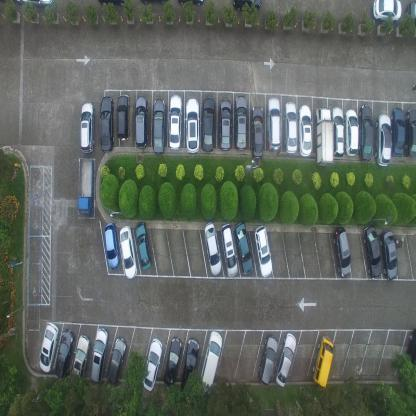car: (198, 330, 223, 392), (310, 335, 334, 388), (274, 333, 297, 388), (315, 107, 334, 166), (234, 220, 254, 276), (180, 339, 200, 395), (142, 338, 163, 391), (253, 224, 273, 279), (70, 333, 90, 388), (257, 334, 278, 386), (54, 328, 75, 379), (77, 157, 95, 216), (363, 224, 382, 279), (90, 328, 109, 383), (39, 322, 59, 374), (332, 224, 351, 278), (220, 222, 238, 278), (106, 337, 127, 385), (163, 335, 182, 388), (204, 221, 222, 276), (120, 224, 138, 279), (380, 228, 398, 279), (374, 114, 390, 167), (185, 98, 200, 154), (266, 96, 281, 152), (359, 103, 373, 163), (136, 221, 153, 270), (80, 102, 96, 154), (169, 95, 183, 150), (134, 95, 148, 150), (202, 96, 215, 154), (152, 96, 165, 154), (100, 94, 113, 152), (298, 104, 312, 157), (105, 221, 120, 270), (235, 95, 248, 150), (331, 106, 344, 161), (391, 106, 405, 157), (372, 0, 402, 23), (284, 101, 297, 154), (251, 104, 263, 161), (219, 98, 232, 150), (116, 94, 130, 141), (345, 108, 358, 156), (404, 327, 416, 379), (405, 107, 416, 158), (231, 0, 262, 12), (405, 0, 416, 27), (20, 0, 55, 8), (97, 0, 128, 7), (177, 0, 205, 6), (140, 0, 168, 6)
